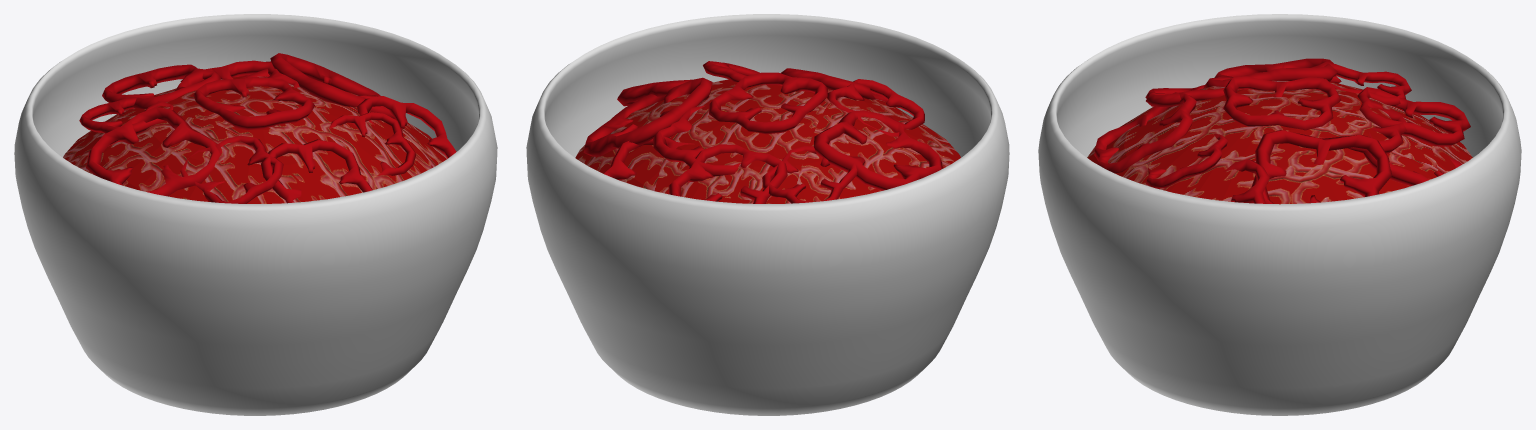
File: pepper_red_bowl.fbx
3 renders of one model, left to right at view 1: azimuth 30°, elevation 25°; view 2: azimuth 150°, elevation 25°; view 3: azimuth 270°, elevation 25°, orthographic.
Visible parts, largest first — view 1: Sphere, Sphere.001, pepper_red.005, pepper_red.010, pepper_red.004, pepper_red.011, pepper_red.002, pepper_red.008, pepper_red.003, pepper_red.006, pepper_red.009, pepper_red.007; view 2: Sphere, Sphere.001, pepper_red.005, pepper_red.004, pepper_red.010, pepper_red.011, pepper_red.008, pepper_red.007, pepper_red.006, pepper_red.002, pepper_red.001, pepper_red.003 (+1 smaller); view 3: Sphere, Sphere.001, pepper_red.004, pepper_red.010, pepper_red.011, pepper_red.002, pepper_red.005, pepper_red.006, pepper_red.009, pepper_red.008, pepper_red.003, pepper_red.007 (+1 smaller).
Part boxes in pixels (x1,y1,x2,y2): Sphere: (14,14,497,415); Sphere.001: (63,76,447,203); pepper_red.005: (86,107,220,196); pepper_red.010: (193,77,314,130); pepper_red.004: (270,53,394,118); pepper_red.011: (102,64,221,108); pepper_red.002: (261,139,372,203); pepper_red.008: (180,135,283,203); pepper_red.003: (357,96,456,167); pepper_red.006: (79,96,173,134); pepper_red.009: (329,112,416,175); pepper_red.007: (176,60,299,88); Sphere: (526,14,1009,415); Sphere.001: (575,79,960,203); pepper_red.005: (814,110,942,190); pepper_red.004: (583,77,712,156); pepper_red.010: (708,72,827,134); pepper_red.011: (668,144,787,203); pepper_red.008: (827,79,924,136); pepper_red.007: (653,105,740,176); pepper_red.006: (762,146,857,203); pepper_red.002: (780,68,887,102); pepper_red.001: (603,136,694,180); pepper_red.003: (617,79,691,106); Sphere: (1038,14,1521,415); Sphere.001: (1087,80,1472,204); pepper_red.004: (1251,130,1392,203); pepper_red.010: (1223,76,1340,130); pepper_red.011: (1357,87,1470,146); pepper_red.002: (1094,92,1196,173); pepper_red.005: (1203,58,1337,87); pepper_red.006: (1322,63,1411,106); pepper_red.009: (1146,133,1227,188); pepper_red.008: (1145,78,1231,107); pepper_red.003: (1223,159,1269,203); pepper_red.007: (1303,109,1406,153).
Bounding box in the file's own units: 39.86 × 23.42 × 39.86.
Materials: 13 (1 with a texture image).
